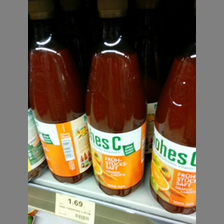juice: (86, 1, 149, 197), (28, 1, 93, 184), (149, 26, 194, 215)
